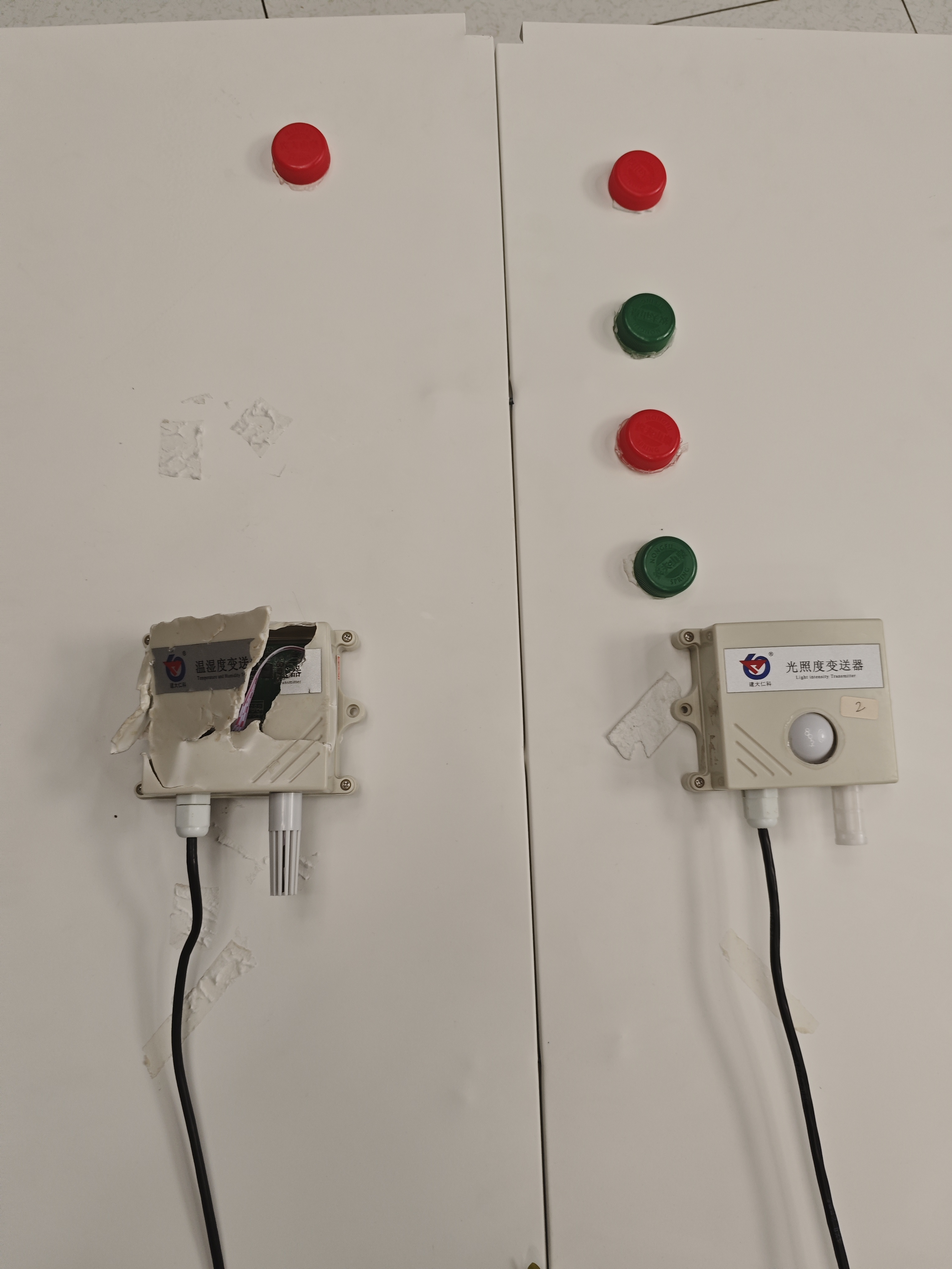red_warning: (586, 397, 710, 495), (252, 106, 359, 189)
sensor_damage: (99, 600, 403, 929)
